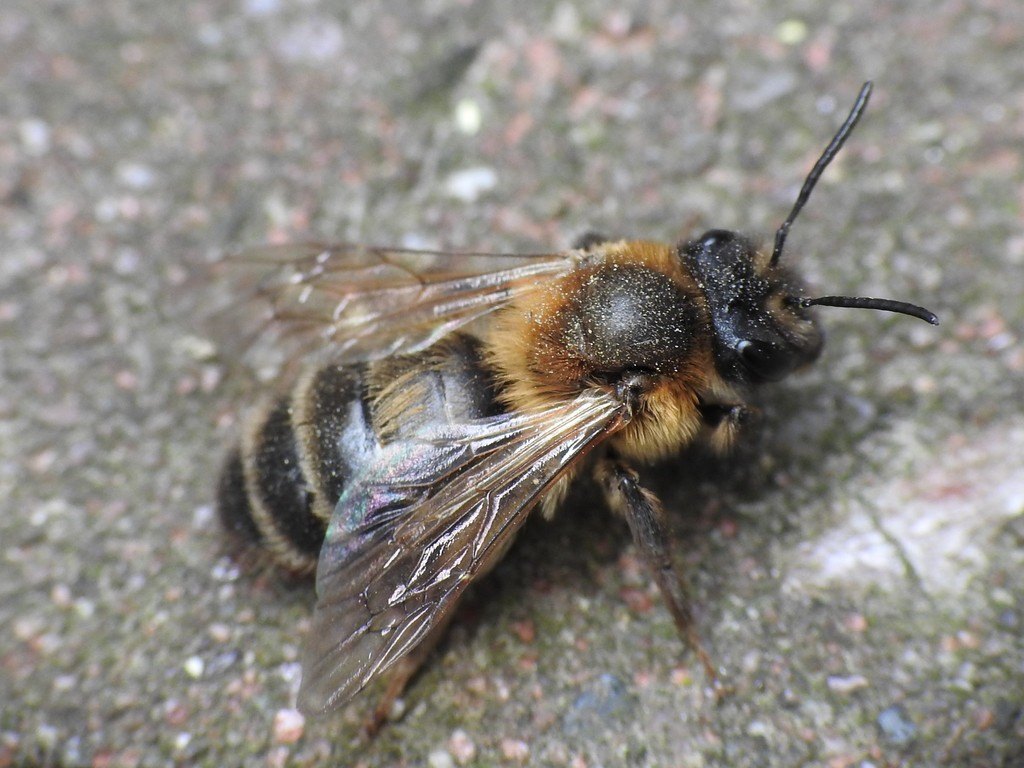not_bumblebee: (161, 78, 944, 720)
